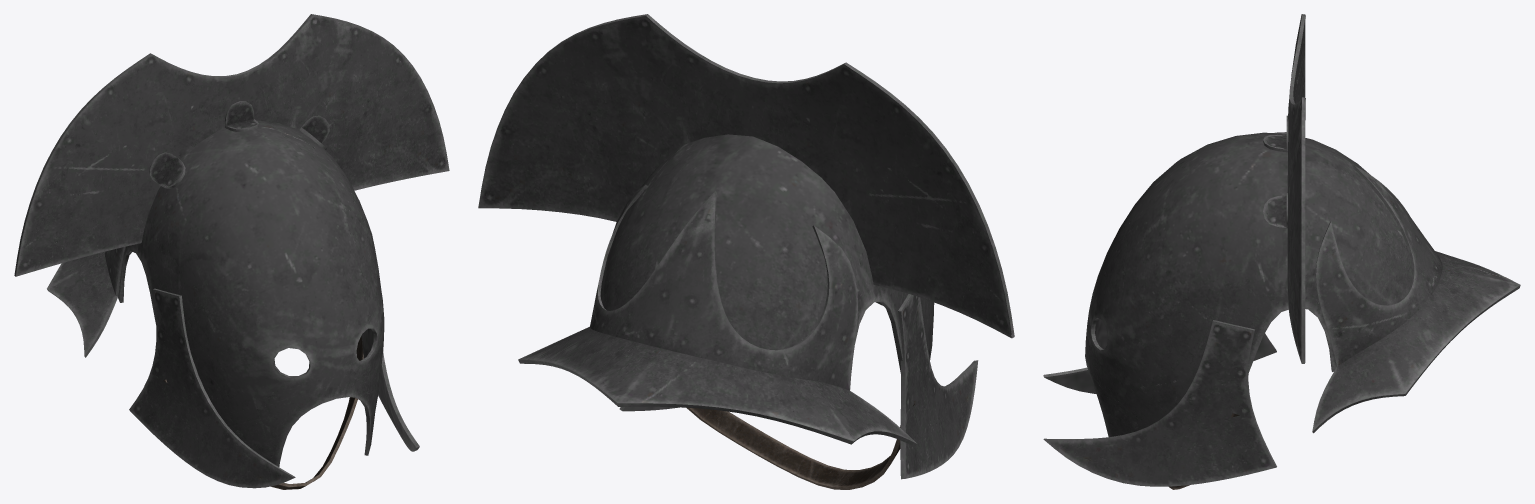
Rendered from sk_uruk_hai_helmet_officer_a4.fbx.
3 views of the same model, side by side, from view 1: azimuth 30°, elevation 25°; view 2: azimuth 150°, elevation 25°; view 3: azimuth 270°, elevation 25° (orthographic). The views are drawn at different scales.
Visible parts, largest first — view 1: sk_uruk_hai_helmet_officer_a4.0, sk_uruk_hai_helmet_officer_a4.1; view 2: sk_uruk_hai_helmet_officer_a4.0, sk_uruk_hai_helmet_officer_a4.1; view 3: sk_uruk_hai_helmet_officer_a4.0.
Boxes of the visible parts, x1=… form: sk_uruk_hai_helmet_officer_a4.0: x1=14, y1=14, x2=449, y2=488; sk_uruk_hai_helmet_officer_a4.1: x1=163, y1=336, x2=363, y2=489; sk_uruk_hai_helmet_officer_a4.0: x1=478, y1=14, x2=1014, y2=479; sk_uruk_hai_helmet_officer_a4.1: x1=686, y1=401, x2=915, y2=489; sk_uruk_hai_helmet_officer_a4.0: x1=1043, y1=14, x2=1520, y2=486.
Size of the model in its own units: 0.4049 by 0.3704 by 0.3656.
Materials: 2 (2 with a texture image).
